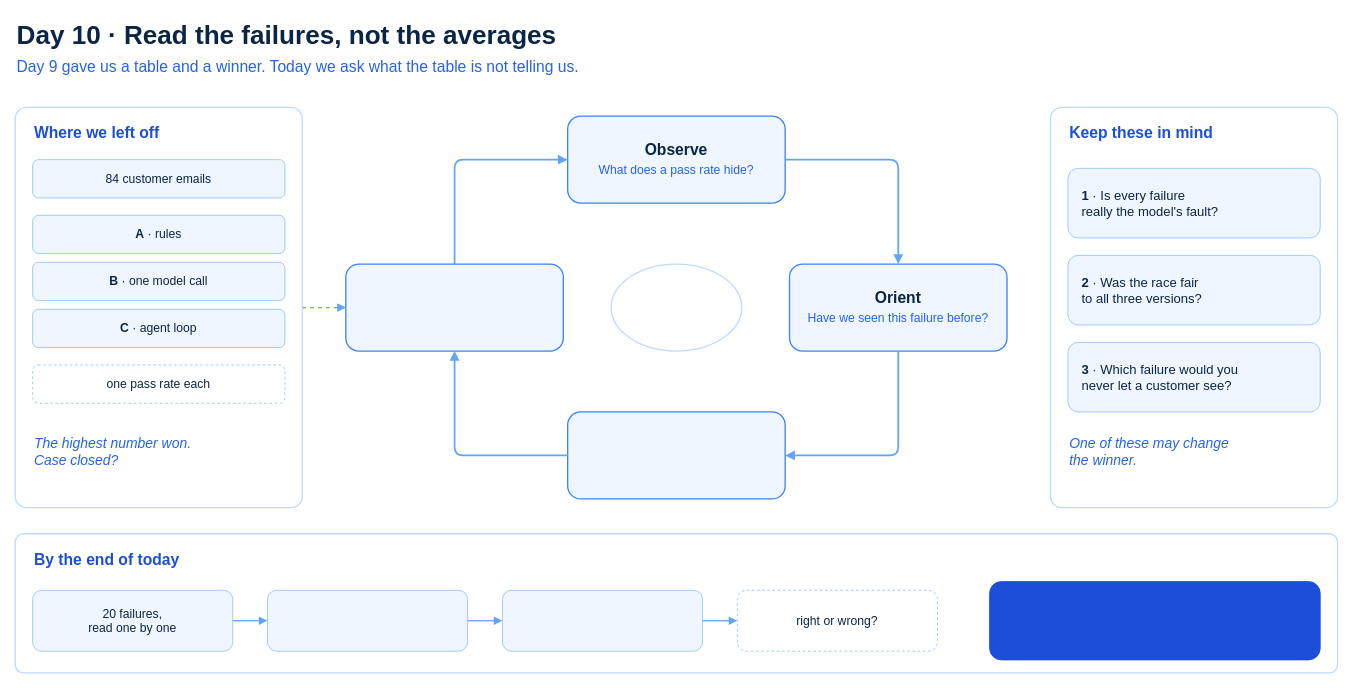
The diagram is 1354 pixels wide and 688 high, and some of its shapes have lost their labels. Here are the shapes that lost their labels. From the top down, the centre of each, then its label:
At (x=454, y=307): "Act Does it hold on emails we never looked at?".
At (x=676, y=307): "OODA one turn today".
At (x=676, y=455): "Decide Which single fix matters most?".
At (x=367, y=620): "one prediction, written before acting".
At (x=602, y=620): "one fix, measured".
At (x=1154, y=620): "Will looking harder make the replies better?".
